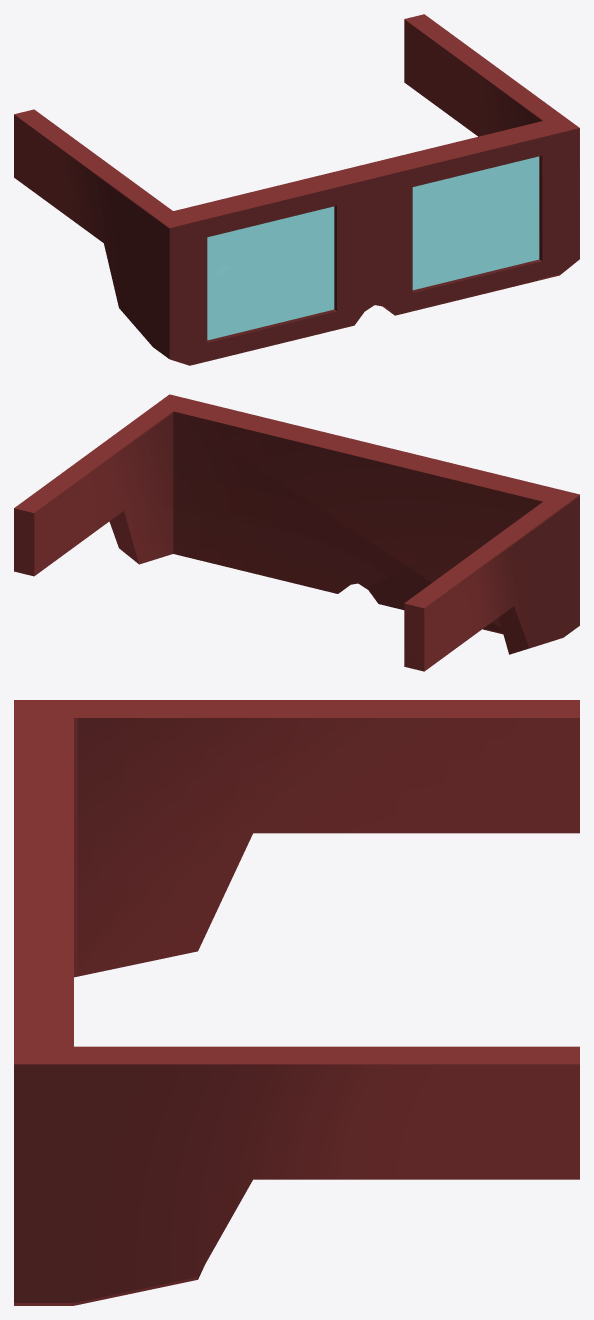
Rendered from Glasses.fbx.
The picture shows the model from 3 angles, top to bottom: view 1: azimuth 30°, elevation 25°; view 2: azimuth 150°, elevation 25°; view 3: azimuth 270°, elevation 25°; orthographic projection. The views are drawn at different scales.
Visible parts, largest first — view 1: Cube; view 2: Cube; view 3: Cube.
Part boxes in pixels (x1,y1,x2,y2): Cube: [14, 14, 579, 365]; Cube: [14, 394, 579, 671]; Cube: [14, 700, 579, 1305].
Size of the model in its own units: 603 by 200 by 396.
1 material, 1 textured.
